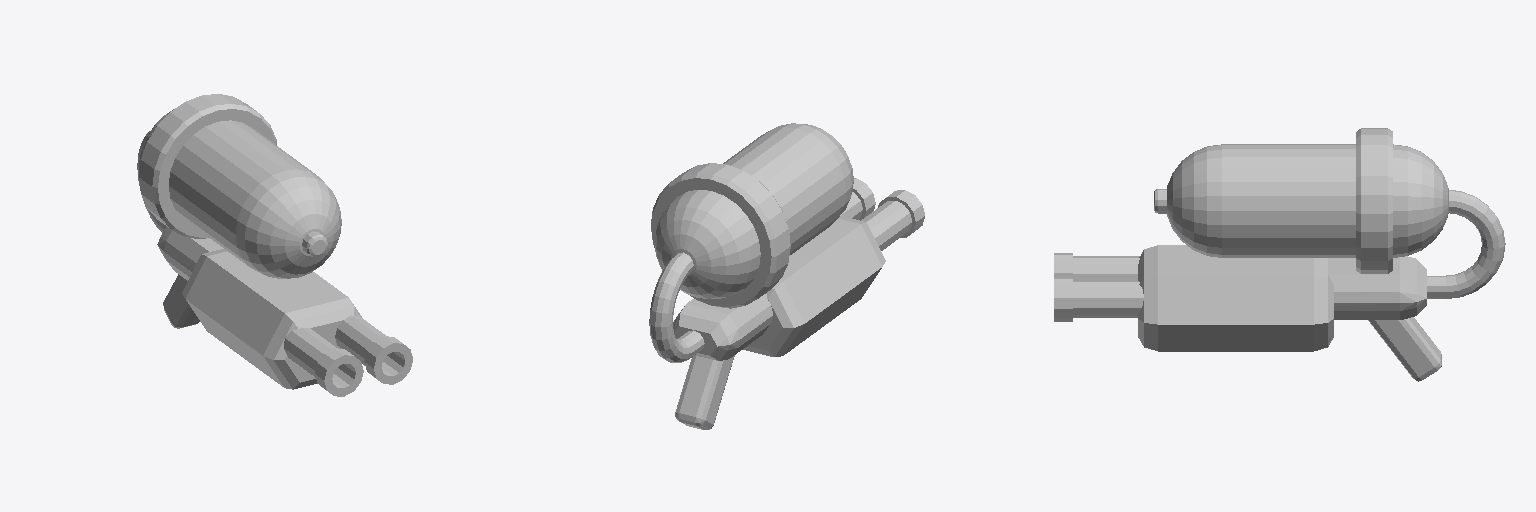
File: blaster_teamRed.obj
The picture shows the model from 3 angles: view 1: azimuth 30°, elevation 25°; view 2: azimuth 150°, elevation 25°; view 3: azimuth 270°, elevation 25°; orthographic projection.
Visible parts, largest first — view 1: blaster_teamRed_Sphere.027; view 2: blaster_teamRed_Sphere.027; view 3: blaster_teamRed_Sphere.027.
Part boxes in pixels (left/top/right/bottom): blaster_teamRed_Sphere.027: left=137, top=94, right=412, bottom=396; blaster_teamRed_Sphere.027: left=649, top=123, right=924, bottom=429; blaster_teamRed_Sphere.027: left=1054, top=128, right=1505, bottom=381.
Size of the model in its own units: 0.4309 by 0.7874 by 1.33.